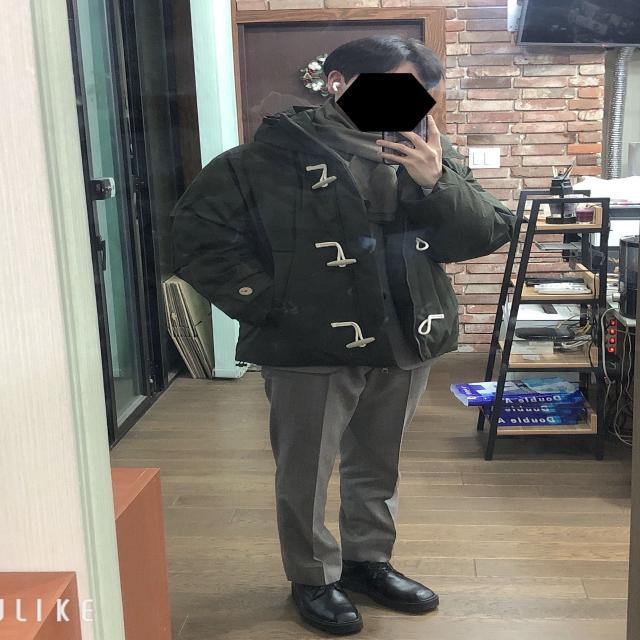padding: (166, 101, 505, 364)
slacks: (260, 358, 419, 584)
